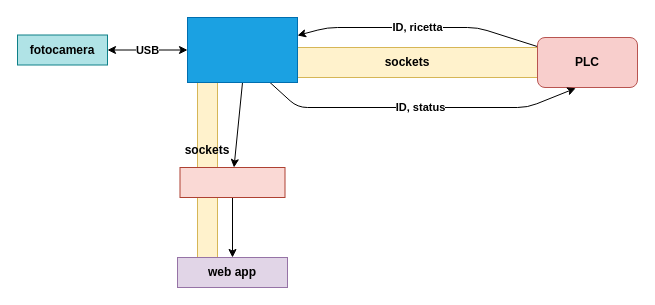
Some shapes in this 655 by 305 pixel diagram are drawn without their labels. The shapes that lost their labels are listed below. From the top down, each one's centre as x and y in pixels, then its label:
(242,49): computer vision app.py
(232,182): foto elaborata
